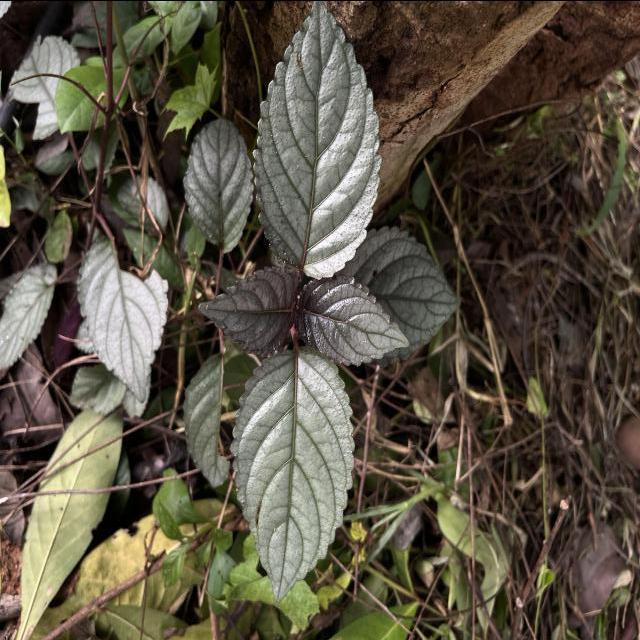Hemigraphis colorata: (251, 0, 386, 282), (227, 340, 359, 604), (295, 270, 414, 368), (182, 113, 256, 254), (196, 262, 304, 358)
